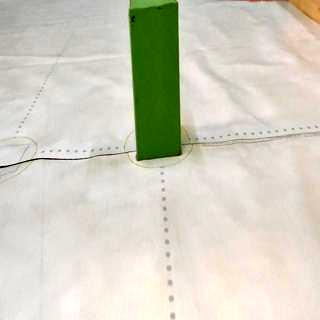greenbox: (129, 0, 186, 160)
